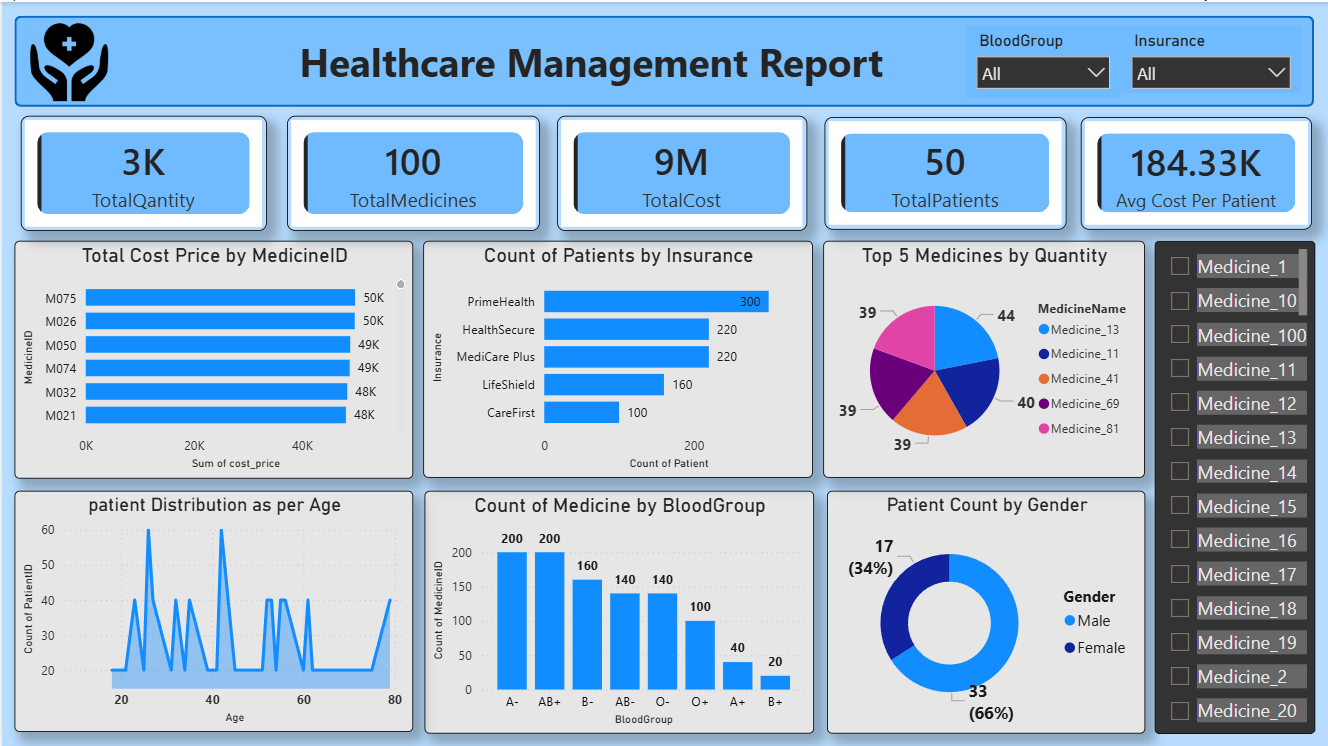

The page's visual inventory and layout, read from the dashboard file:
{"tool":"powerbi","page":{"name":"Dashboard Report","canvas":[1280,720],"ordinal":10},"visuals":[{"type":"shape","box":[12.3,13.7,1254.2,87.8],"z":0},{"type":"image","box":[12.3,20.6,105.7,75.5],"z":1000},{"type":"textbox","box":[255.2,27.4,625.7,63.1],"z":2000},{"type":"cardVisual","fields":{"Data":["Sheet1.TotalQantity"]},"box":[17.8,109.8,237.4,111.1],"z":3000,"group":"g1"},{"type":"cardVisual","fields":{"Data":["Sheet1.TotalMedicines"]},"box":[274.4,109.8,244.3,111.1],"z":4000,"group":"g1"},{"type":"cardVisual","fields":{"Data":["Sheet1.TotalCost"]},"box":[535.1,109.8,241.5,111.1],"z":5000,"group":"g1"},{"type":"cardVisual","fields":{"Data":["Sheet1.TotalPatients"]},"box":[793.1,111,233.3,108.4],"z":6000,"group":"g1"},{"type":"cardVisual","fields":{"Data":["Sheet1.Avg Cost per Patient"]},"box":[1041,111,223,108.4],"z":7000,"group":"g1"},{"type":"barChart","title":"Total Cost Price by MedicineID","fields":{"Category":["Sheet1.MedicineID"],"Y":["Sum(Sheet1.cost_price)"]},"box":[12.1,230.4,384.9,229.2],"z":8000},{"type":"columnChart","title":"Count of Medicine by BloodGroup","fields":{"Category":["Sheet1.BloodGroup"],"Y":["CountNonNull(Sheet1.MedicineID)"]},"box":[407.5,472,376,234.6],"z":9000},{"type":"donutChart","title":"Patient Count by Gender","fields":{"Category":["Sheet1.Gender"],"Y":["Count(Sheet1.PatientID)"]},"box":[795.9,472,307.4,234.6],"z":10000},{"type":"barChart","title":"Count of Patients by Insurance","fields":{"Category":["Sheet1.Insurance"],"Y":["CountNonNull(Sheet1.PatientName)"]},"box":[406.2,230.5,376,229.2],"z":11000},{"type":"pieChart","title":"Top 5 Medicines by Quantity","fields":{"Category":["Sheet1.MedicineName"],"Y":["Sum(Sheet1.Quantity)"]},"box":[793.1,230.5,310.1,229.2],"z":12000},{"type":"slicer","fields":{"Values":["Sheet1.BloodGroup"]},"box":[930.4,23.3,149.6,70],"z":13000},{"type":"slicer","fields":{"Values":["Sheet1.MedicineName"]},"box":[1112,230.5,155,476.2],"z":14000},{"type":"slicer","fields":{"Values":["Sheet1.Insurance"]},"box":[1079.9,23.3,174.3,64.5],"z":15000},{"type":"lineChart","title":"patient Distribution as per Age","fields":{"Category":["Sheet1.Age"],"Y":["CountNonNull(Sheet1.PatientID)"]},"box":[12.1,471.7,384.9,232.8],"z":16000},{"type":"group","id":"g1","title":"Group 1","box":[17.8,109.8,1246.2,111.1],"z":16001}]}

Visuals, with their boxes in screenshot pixels (x1, y1, x2, y2), scaled from the page's 1280x720 canvas onto the 1328x746 screenshot:
shape: pyautogui.locateOnScreen(13, 14, 1314, 105)
image: pyautogui.locateOnScreen(13, 21, 122, 100)
textbox: pyautogui.locateOnScreen(265, 28, 914, 94)
cardVisual - Sheet1.TotalQantity: pyautogui.locateOnScreen(18, 114, 265, 229)
cardVisual - Sheet1.TotalMedicines: pyautogui.locateOnScreen(285, 114, 538, 229)
cardVisual - Sheet1.TotalCost: pyautogui.locateOnScreen(555, 114, 806, 229)
cardVisual - Sheet1.TotalPatients: pyautogui.locateOnScreen(823, 115, 1065, 227)
cardVisual - Sheet1.Avg Cost per Patient: pyautogui.locateOnScreen(1080, 115, 1311, 227)
"Total Cost Price by MedicineID" barChart: pyautogui.locateOnScreen(13, 239, 412, 476)
"Count of Medicine by BloodGroup" columnChart: pyautogui.locateOnScreen(423, 489, 813, 732)
"Patient Count by Gender" donutChart: pyautogui.locateOnScreen(826, 489, 1145, 732)
"Count of Patients by Insurance" barChart: pyautogui.locateOnScreen(421, 239, 812, 476)
"Top 5 Medicines by Quantity" pieChart: pyautogui.locateOnScreen(823, 239, 1145, 476)
slicer - Sheet1.BloodGroup: pyautogui.locateOnScreen(965, 24, 1120, 97)
slicer - Sheet1.MedicineName: pyautogui.locateOnScreen(1154, 239, 1315, 732)
slicer - Sheet1.Insurance: pyautogui.locateOnScreen(1120, 24, 1301, 91)
"patient Distribution as per Age" lineChart: pyautogui.locateOnScreen(13, 489, 412, 730)
"Group 1" group: pyautogui.locateOnScreen(18, 114, 1311, 229)
